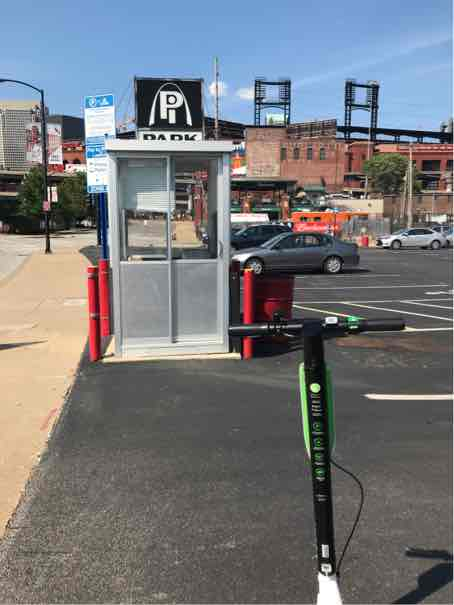scooter: (229, 311, 412, 605)
